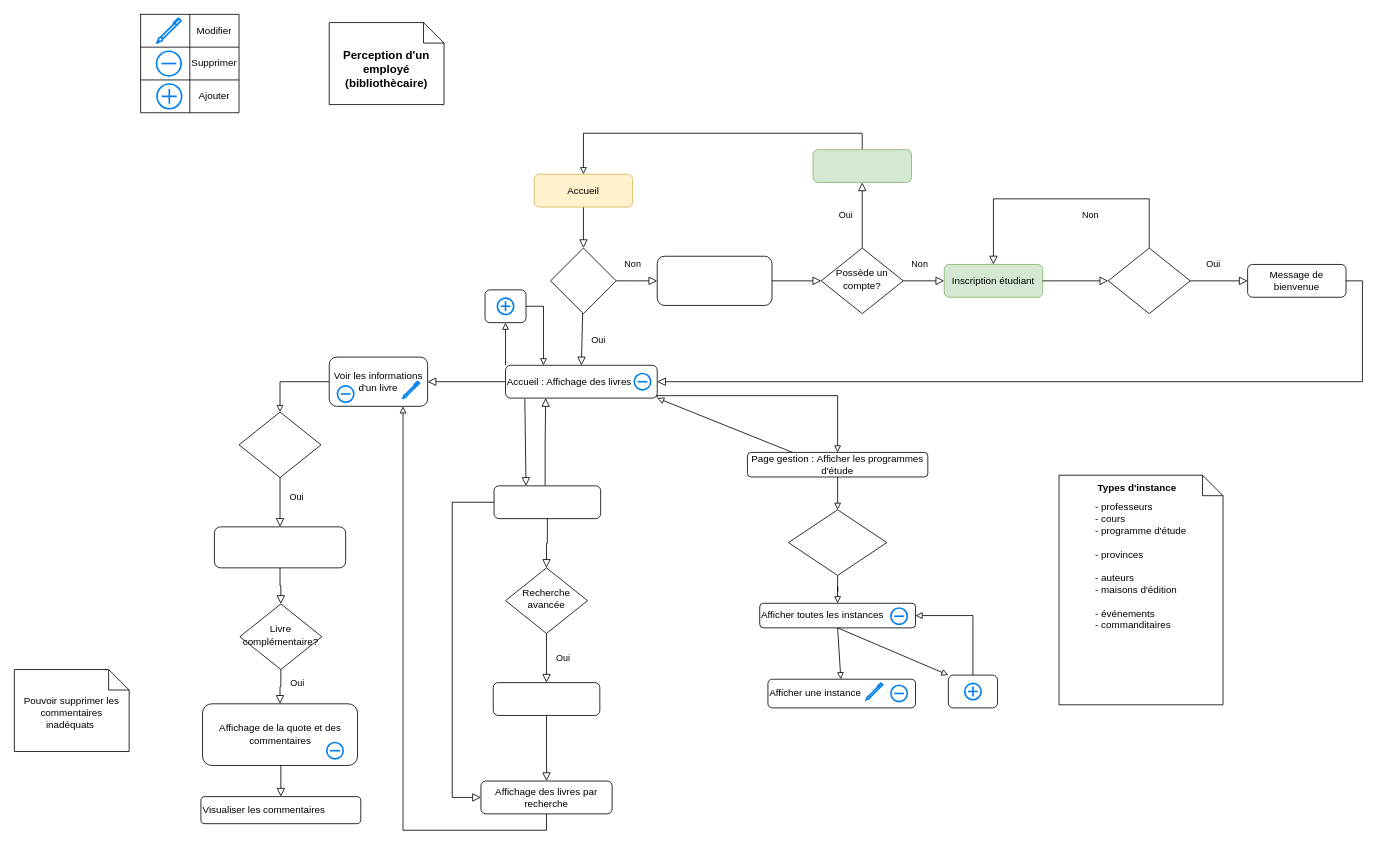
Image size: 1385x851. Some labels were removed from this diagram. The shapes that lost their labels are listed below. From the top down, each one's centre as x and y in pixels, then its label:
(x=861, y=165): Connexion
(x=583, y=280): Employé connecté?
(x=714, y=280): Affichage de livres pour inciter à la connexion
(x=1148, y=280): Confirmation courriel
(x=279, y=444): Livre bibliothèque?
(x=547, y=502): Chercher un livre
(x=280, y=547): Affichage des informations supplémentaires
(x=837, y=542): Sélection type d'instance
(x=546, y=698): Champs de recherche avancée
